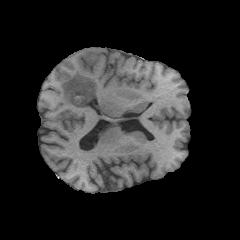glioma: (61, 54, 97, 107)
